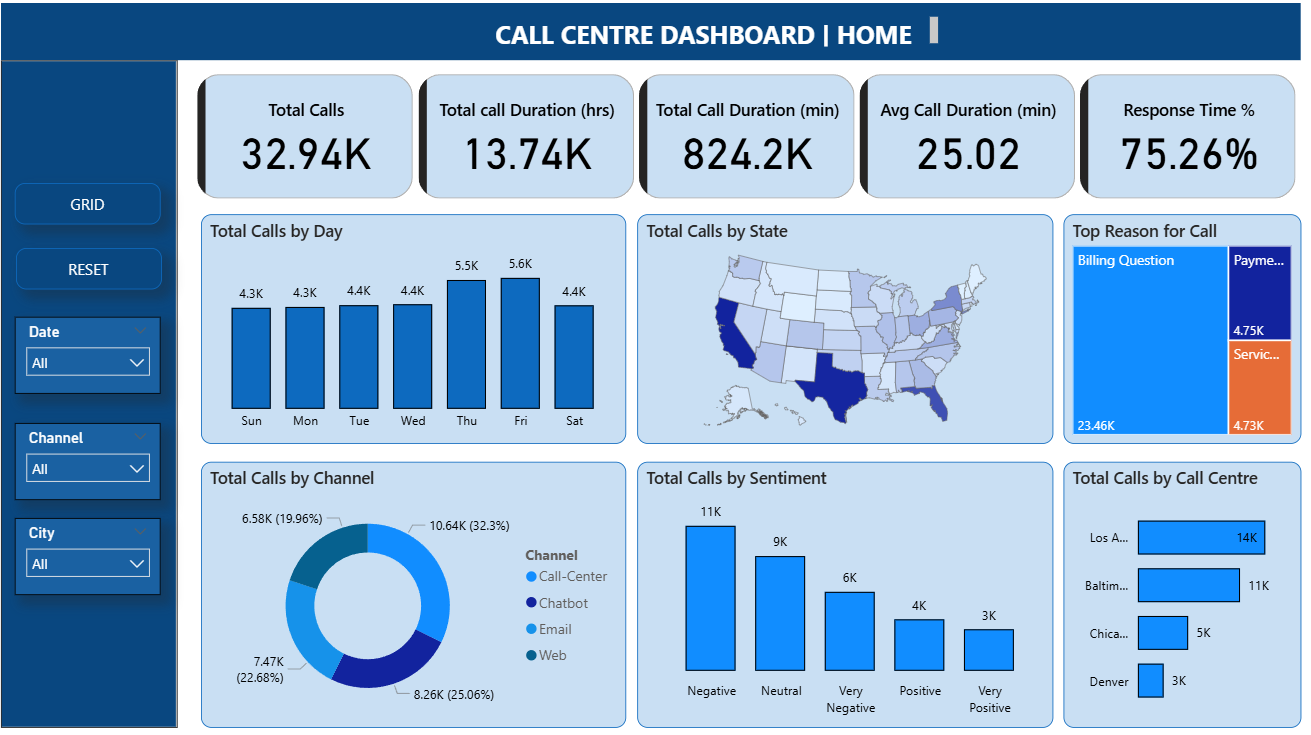

The dashboard page shown, as its layout file describes it:
{"tool":"powerbi","page":{"name":"HOME","canvas":[1280,720],"ordinal":0},"visuals":[{"type":"shape","box":[9.7,9.7,1254.7,55.5],"z":0},{"type":"shape","box":[9.7,65.1,170,644.2],"z":1000},{"type":"cardVisual","fields":{"Data":["Call Center_Call Center.Total Calls","Call Center_Call Center.Total call Duration (hrs)","Call Center_Call Center.Total Call Duration (min)","Call Center_Call Center.Average Call Duration in (min)","Call Center_Call Center.Response Time %"]},"box":[194.2,73.6,1070.1,130.3],"z":2000},{"type":"columnChart","fields":{"Y":["Call Center_Call Center.Total Calls"],"Category":["Date Table.Day"]},"box":[202.7,213.5,410.2,222],"z":3000},{"type":"shapeMap","fields":{"Value":["Call Center_Call Center.Total Calls"],"Category":["Call Center_Call Center.State"]},"box":[623.7,213.5,401.7,222],"z":4000},{"type":"treemap","title":"Top Reason for Call","fields":{"Group":["Call Center_Call Center.Reason"],"Values":["Call Center_Call Center.Total Calls"]},"box":[1035.1,213.5,229.2,222],"z":5000},{"type":"donutChart","fields":{"Y":["Call Center_Call Center.Total Calls"],"Category":["Call Center_Call Center.Channel"]},"box":[202.7,452.4,410.2,257],"z":6000},{"type":"columnChart","fields":{"Y":["Call Center_Call Center.Total Calls"],"Category":["Call Center_Call Center.Sentiment"]},"box":[623.7,452.4,401.7,257],"z":7000},{"type":"clusteredBarChart","title":"Total Calls by Call Centre","fields":{"Category":["Call Center_Call Center.Call-Centres City"],"Y":["Call Center_Call Center.Total Calls"]},"box":[1035.1,452.4,229.2,257],"z":8000},{"type":"textbox","box":[464.5,18.1,454.8,38.6],"z":9000},{"type":"slicer","fields":{"Values":["Call Center_Call Center.Channel"]},"box":[22.9,415,141.2,74.8],"z":10000},{"type":"slicer","fields":{"Values":["Call Center_Call Center.City"]},"box":[22.9,506.7,141.2,74.8],"z":11000},{"type":"slicer","fields":{"Values":["Date Table.Date"]},"box":[22.9,312.5,141.2,74.8],"z":12000},{"type":"actionButton","box":[22.9,183.4,141.2,39.8],"z":13000},{"type":"actionButton","box":[23.7,246.3,140.5,40.3],"z":13001}]}

Visuals, with their boxes in screenshot pixels (x1, y1, x2, y2), scaled from the page's 1280x720 canvas onto the 1311x735 screenshot:
shape: select_region(10, 10, 1295, 67)
shape: select_region(10, 66, 184, 724)
cardVisual - Call Center_Call Center.Total Calls x Call Center_Call Center.Total call Duration (hrs): select_region(199, 75, 1295, 208)
columnChart - Call Center_Call Center.Total Calls x Date Table.Day: select_region(208, 218, 628, 445)
shapeMap - Call Center_Call Center.Total Calls x Call Center_Call Center.State: select_region(639, 218, 1050, 445)
"Top Reason for Call" treemap: select_region(1060, 218, 1295, 445)
donutChart - Call Center_Call Center.Total Calls x Call Center_Call Center.Channel: select_region(208, 462, 628, 724)
columnChart - Call Center_Call Center.Total Calls x Call Center_Call Center.Sentiment: select_region(639, 462, 1050, 724)
"Total Calls by Call Centre" clusteredBarChart: select_region(1060, 462, 1295, 724)
textbox: select_region(476, 18, 942, 58)
slicer - Call Center_Call Center.Channel: select_region(23, 424, 168, 500)
slicer - Call Center_Call Center.City: select_region(23, 517, 168, 594)
slicer - Date Table.Date: select_region(23, 319, 168, 395)
actionButton: select_region(23, 187, 168, 228)
actionButton: select_region(24, 251, 168, 293)
